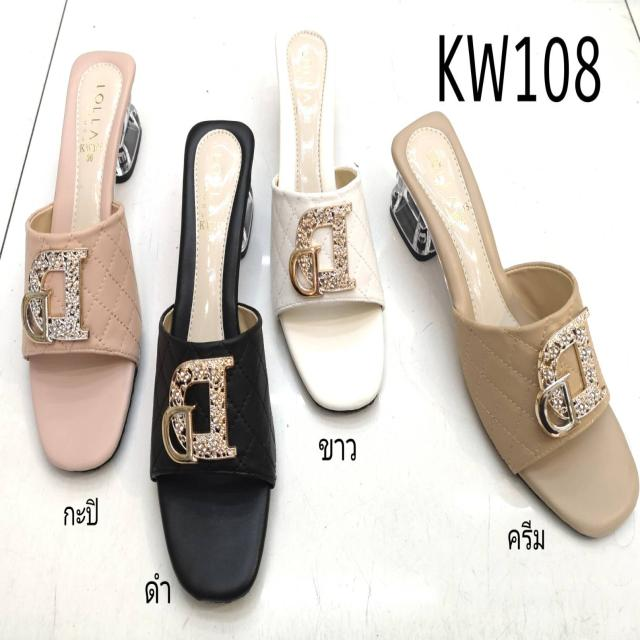black: (159, 109, 268, 605)
cream: (390, 114, 637, 545)
kapi: (31, 54, 136, 475)
white: (268, 27, 387, 409)
